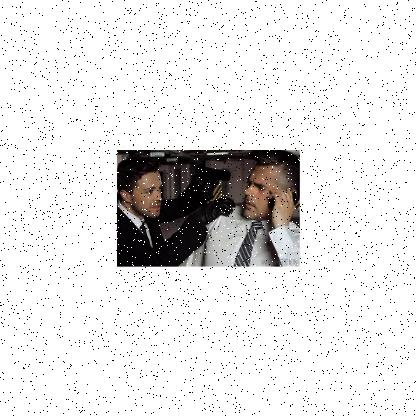gun: (191, 163, 231, 203)
